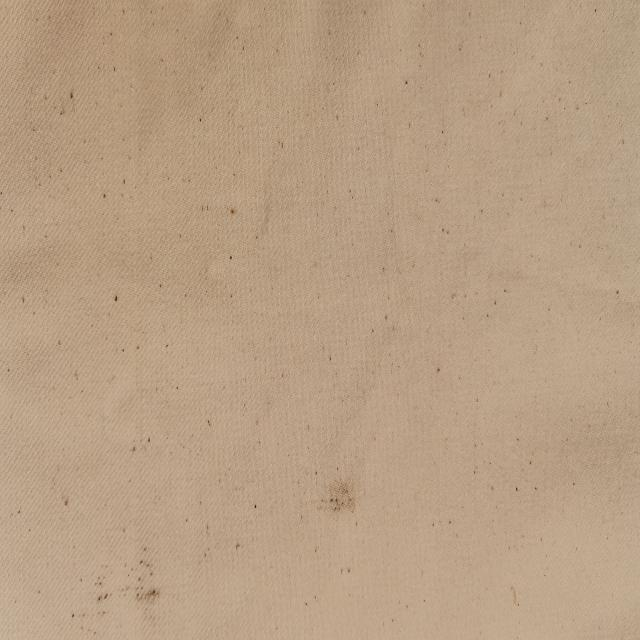taaaches: (316, 460, 362, 521), (130, 550, 164, 619), (88, 562, 113, 626)
